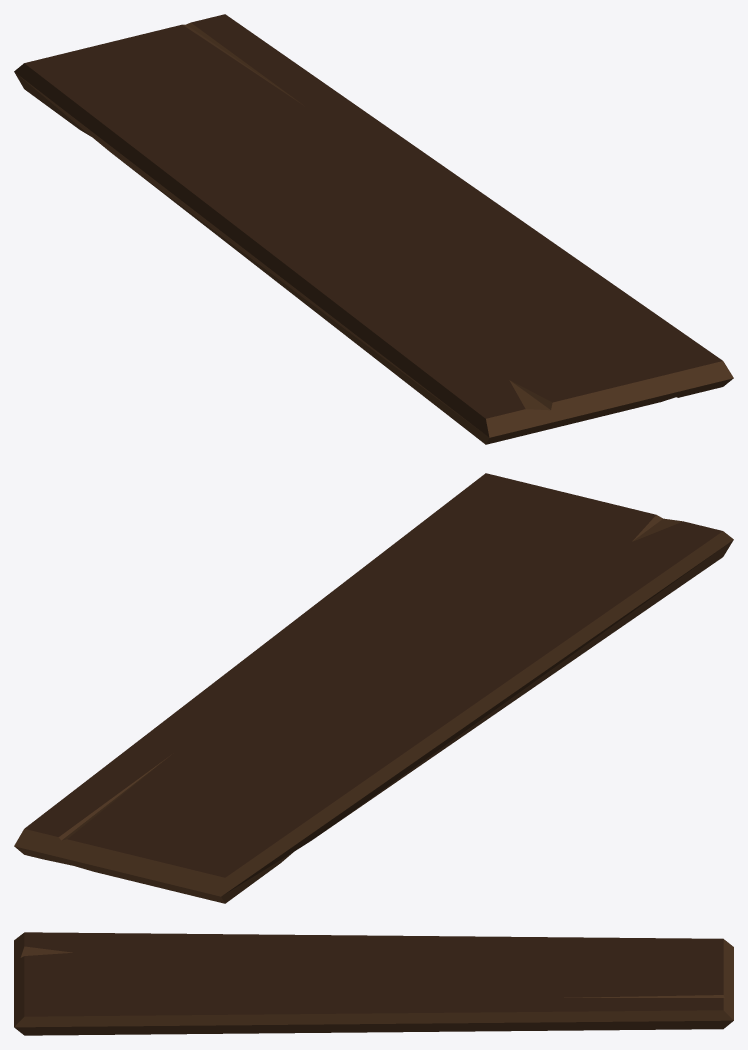
Rendered from Cave_Lair_Wooden_Timber_Plank_Large_01.fbx.
3 views of the same model, one above another, from view 1: azimuth 30°, elevation 25°; view 2: azimuth 150°, elevation 25°; view 3: azimuth 270°, elevation 25° (orthographic). The views are drawn at different scales.
Parts seen in each view (by area): view 1: Cave_Lair_Wooden_Timber_Plank_Large_01; view 2: Cave_Lair_Wooden_Timber_Plank_Large_01; view 3: Cave_Lair_Wooden_Timber_Plank_Large_01.
Boxes of the visible parts, x1,y1,x2,y2 form: Cave_Lair_Wooden_Timber_Plank_Large_01: (14,14,733,444); Cave_Lair_Wooden_Timber_Plank_Large_01: (14,473,733,903); Cave_Lair_Wooden_Timber_Plank_Large_01: (14,932,733,1035).
Size of the model in its own units: 1.01 by 0.103 by 3.55.
